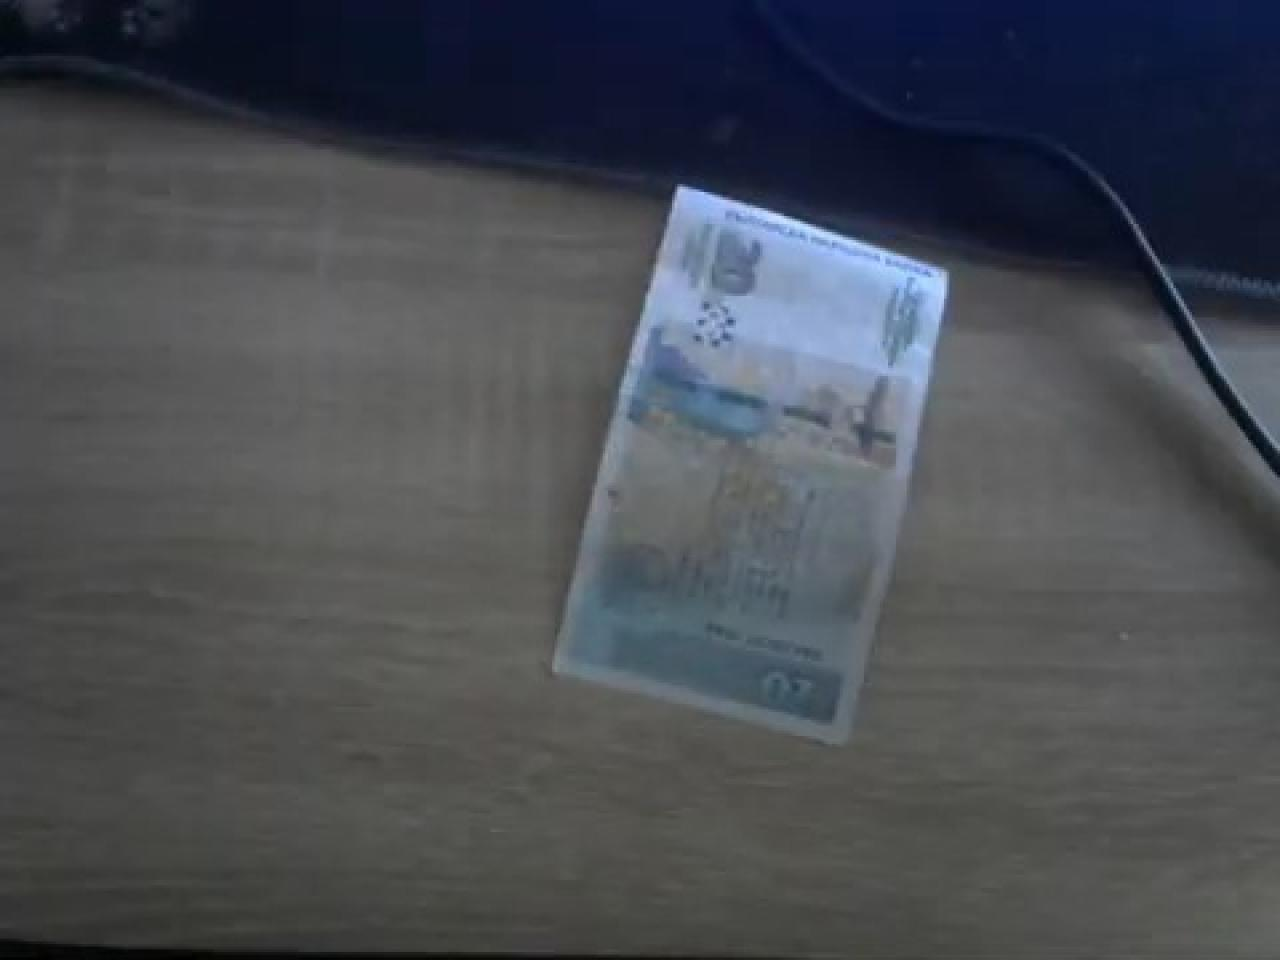20leva: (546, 187, 949, 749)
